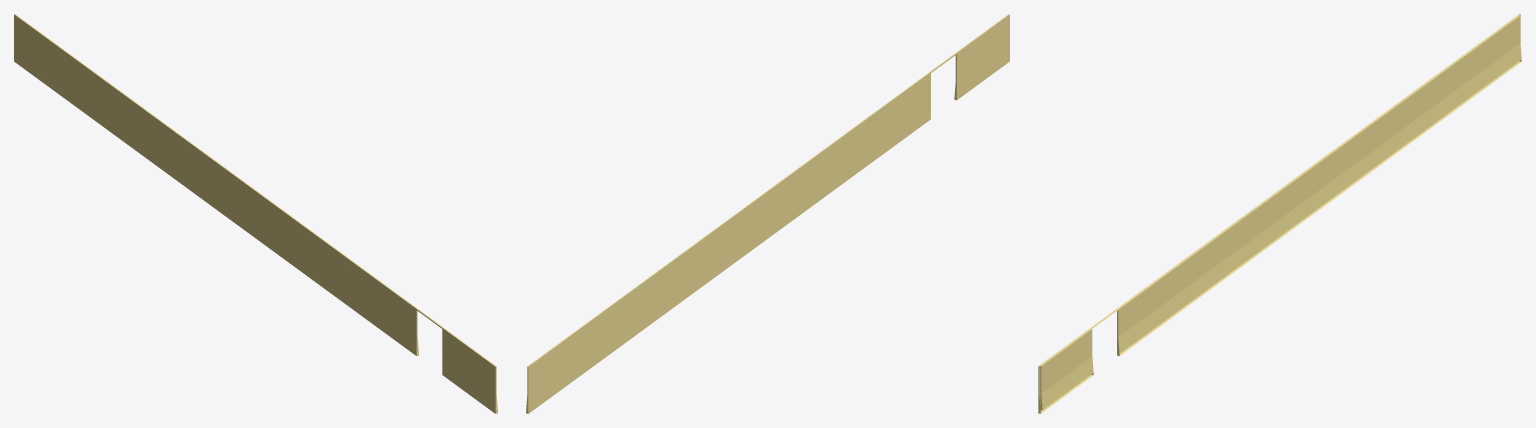
The model's file is interior_school_room_east_01_invisible.fbx.
3 views of the same model, side by side, from view 1: azimuth 30°, elevation 25°; view 2: azimuth 150°, elevation 25°; view 3: azimuth 330°, elevation 25° (orthographic).
Parts seen in each view (by area): view 1: Invisible Mesh; view 2: Invisible Mesh; view 3: Invisible Mesh.
Boxes of the visible parts, x1,y1,x2,y2 form: Invisible Mesh: (14,14,497,413); Invisible Mesh: (526,14,1009,413); Invisible Mesh: (1038,14,1521,413).
Size of the model in its own units: 20 by 380 by 7014.
